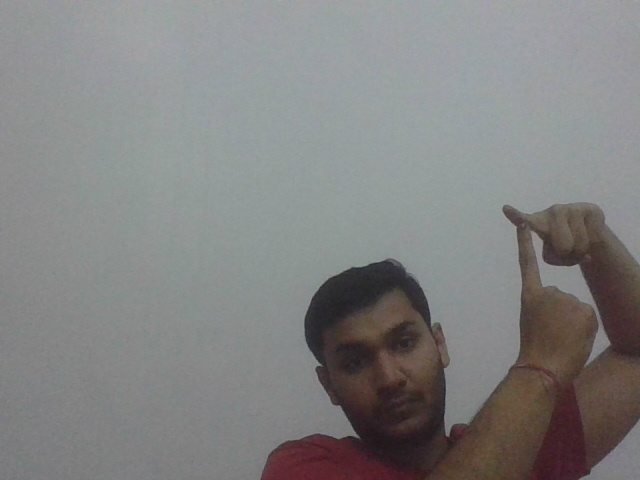T: (500, 203, 544, 286)
